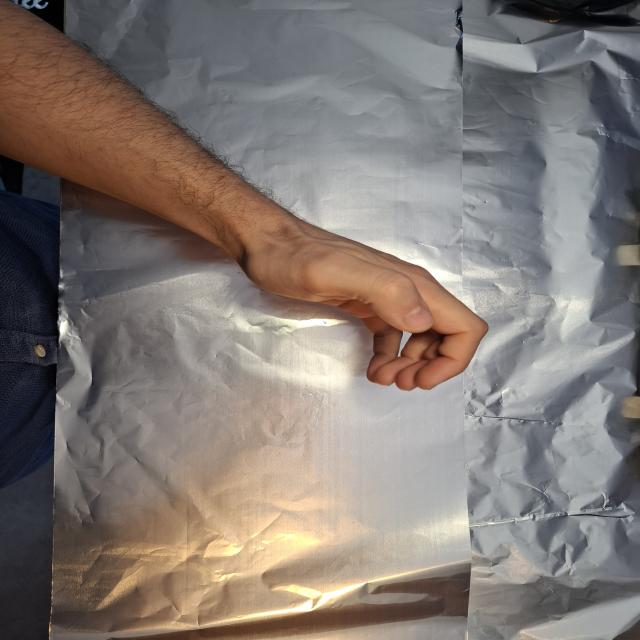glove_off: (228, 214, 493, 394)
